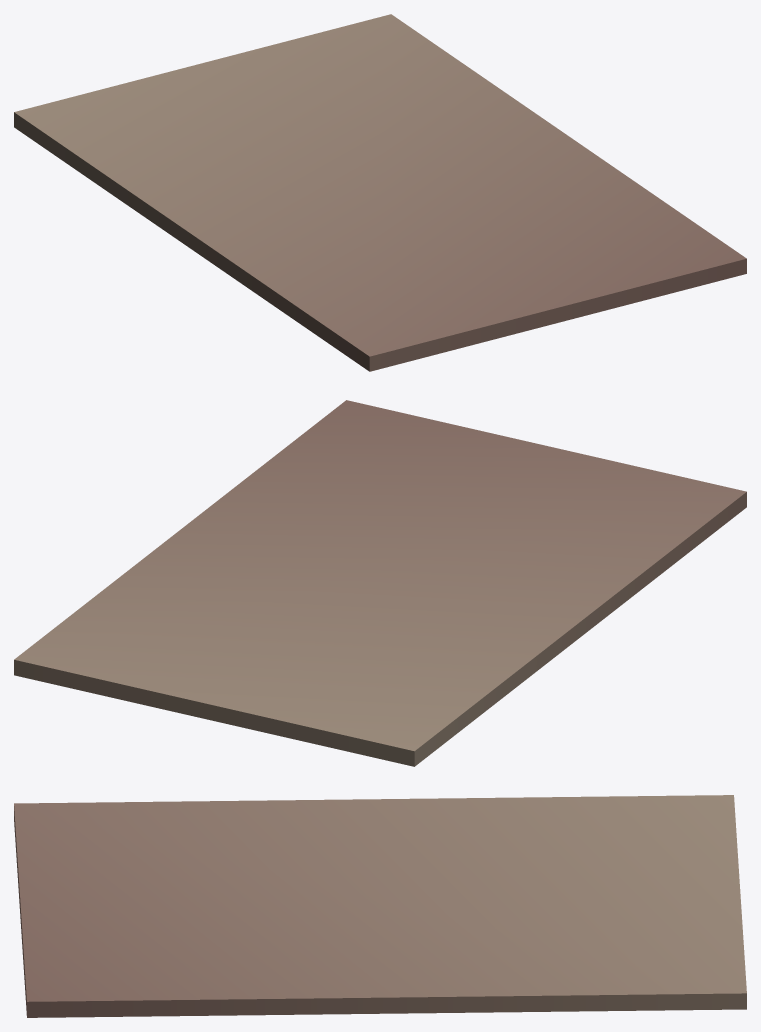
The model's file is paper.fbx.
3 renders of one model, top to bottom at view 1: azimuth 30°, elevation 25°; view 2: azimuth 150°, elevation 25°; view 3: azimuth 270°, elevation 25°, orthographic. The views are drawn at different scales.
Parts seen in each view (by area): view 1: paper; view 2: paper; view 3: paper.
Part boxes in pixels (bbox=[...]): paper: bbox=[14, 14, 746, 371]; paper: bbox=[14, 400, 746, 766]; paper: bbox=[14, 795, 746, 1017].
Size of the model in its own units: 74.83 by 2.72 by 112.
